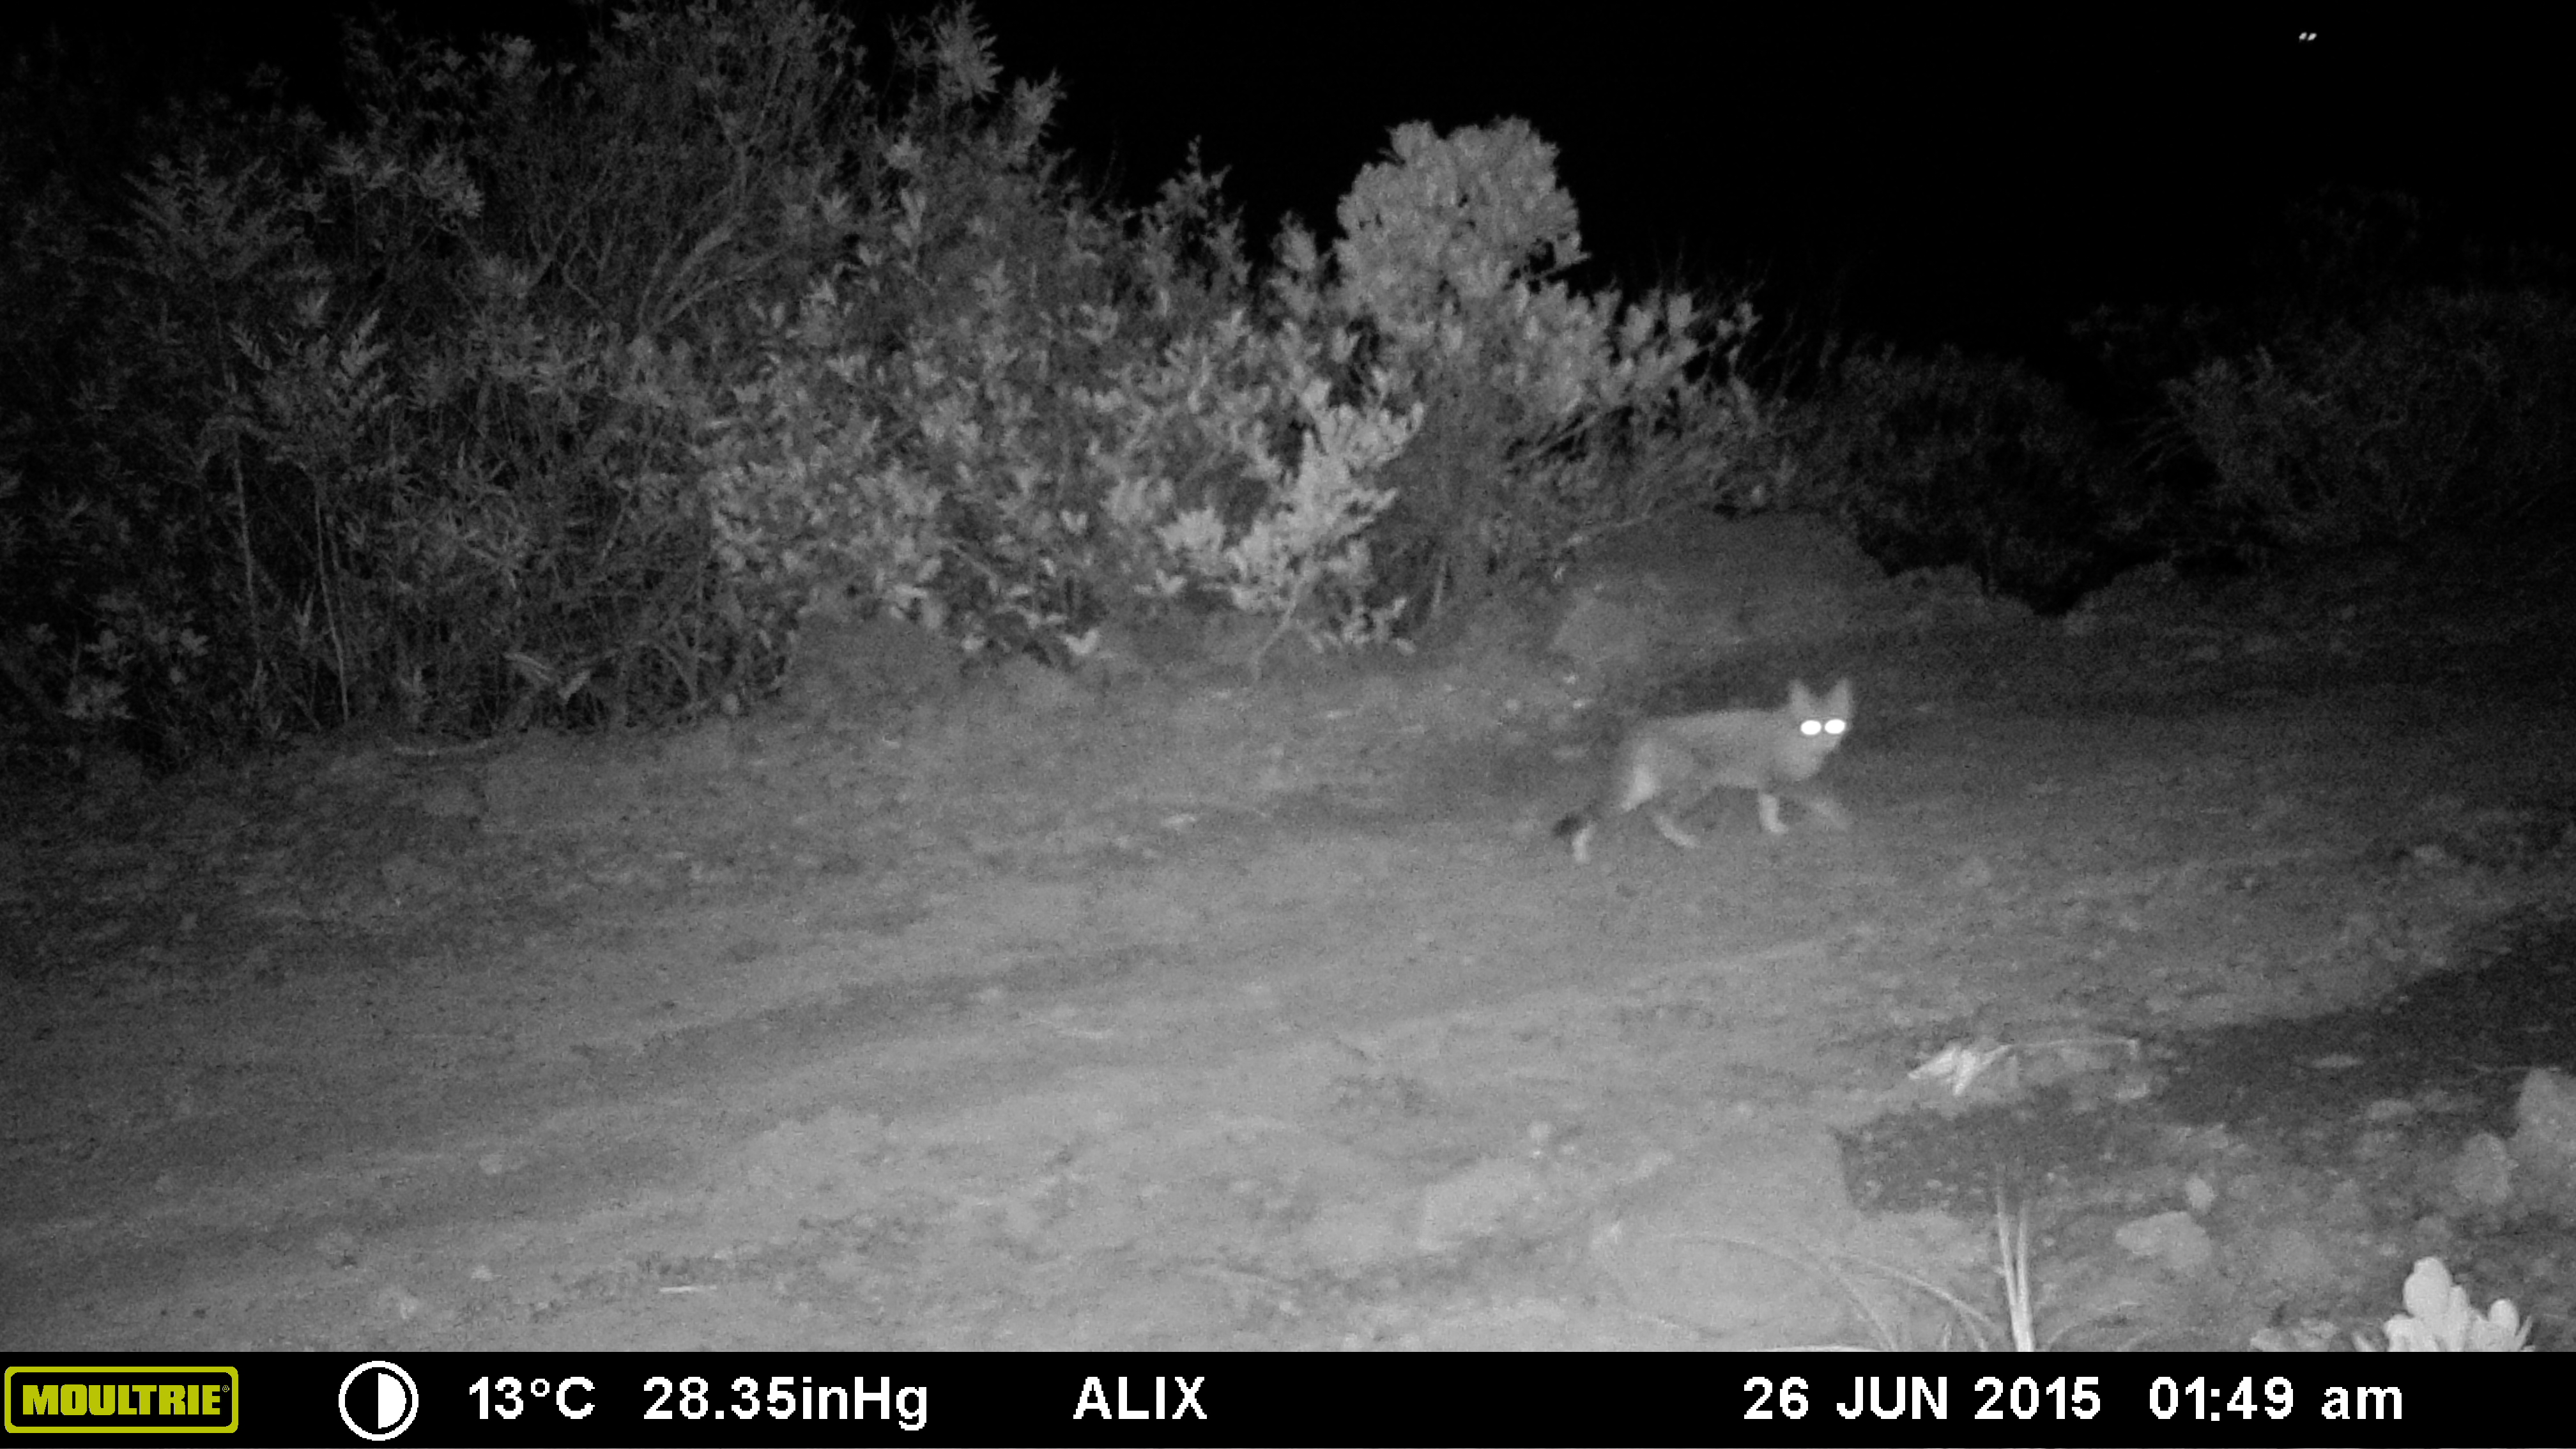cat: (1543, 674, 1868, 874)
